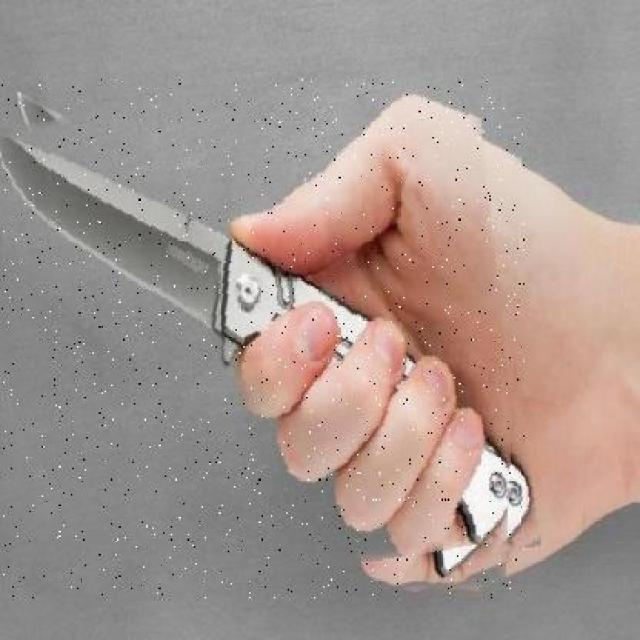knife: (2, 78, 525, 598)
